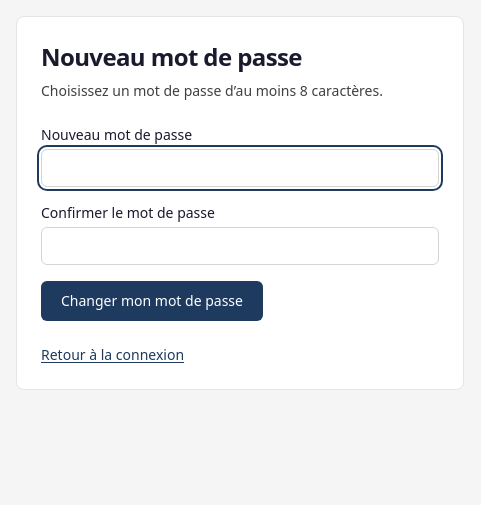
Scenario: /reinitialiser-mot-de-passe › REFUSE deux mots de passe différents SANS APPELER LE BACKEND
In the password field labelled "Nouveau mot de passe": (240, 168) [41, 149, 439, 187], type "nouveau-mdp-1"
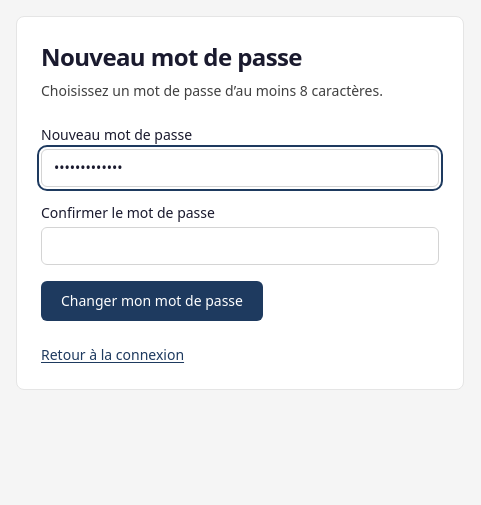
In the password field labelled "Confirmer le mot de passe": (240, 246) [41, 227, 439, 265], type "nouveau-mdp-2"
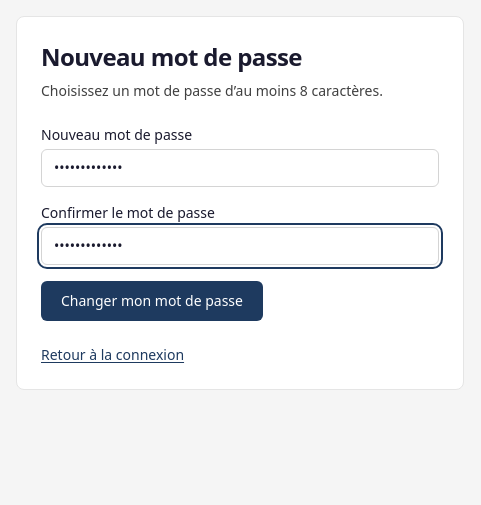
Click the button "Changer mon mot de passe": (152, 301) [41, 281, 263, 321]
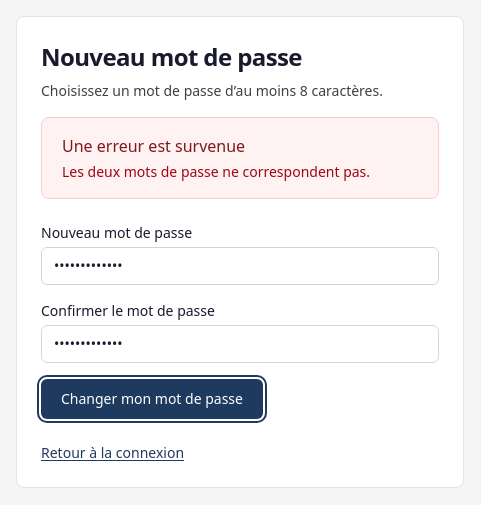
Expected: the message "Une erreur est survenue Les deux mots de passe ne correspondent pas." is shown, [41, 117, 439, 199]
